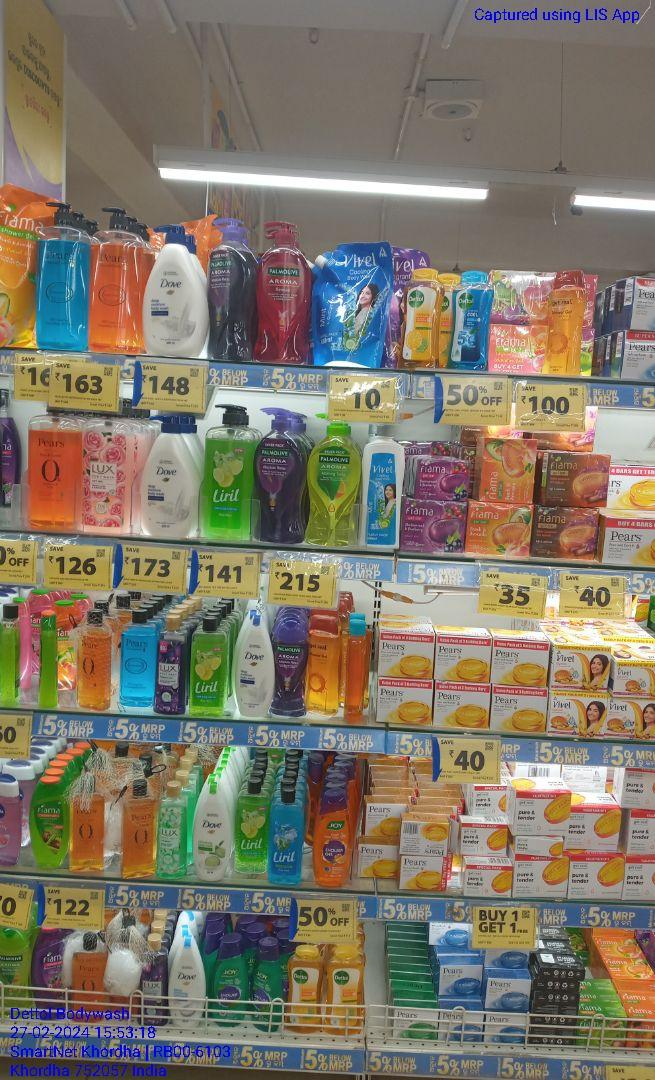Dettol_Bodywash_Cool: (452, 269, 490, 373)
Dettol_Bodywash_Refresh: (403, 267, 439, 368), (327, 951, 363, 1037), (289, 945, 320, 1035)
Dove_Deep_Moisture_Body_Wash_250ML: (237, 614, 272, 723)
Dove_Gentle_Exfoliating_Body_Wash_250ML: (171, 934, 205, 1033)
Dove_Refreshing_Body_Wash_250ML: (194, 784, 231, 886)
Fiama_Shower_Gel_Lemongrass_and_Jojoba_250ML: (31, 779, 66, 870)
Get_Real_Shower_Gel_Moisturising_Glycerin_300ML: (547, 269, 583, 377), (310, 612, 338, 714)
Joy_Shower_Gel_Mandarin_and_Lemongrass_250ML: (315, 793, 354, 889)
Joy_Shower_Gel_Mint_and_Eucalyptus_250ML: (213, 939, 248, 1028), (250, 939, 279, 1034)
Liril_Cooling_Mint_Body_Wash_250ML: (268, 791, 303, 887)
Liril_Lime_and_Tea_Tree_Oil_Body_Wash_250ML: (191, 620, 228, 719), (234, 784, 266, 878)
Lux_Black_Orchid_Scent_and_Juniper_Oil_Body_Wash_245ML: (157, 617, 184, 719), (141, 938, 167, 1027)
Lux_Body_Wash_Skin_Detox_Freesia_Scent_and_Alove_Vera_245ML: (157, 786, 188, 884)
Palmolive_Aroma_Morning_Tonic_Shower_Gel_250ML: (0, 929, 31, 1018)
Palmolive_Aroma_Relax_250ML: (274, 617, 306, 719)
Pears_Pure_Glycerin_and_Mint_Extracts_Body_Wash_250ML: (119, 610, 156, 709)
